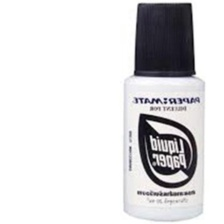correction_fluid: (121, 0, 208, 224)
